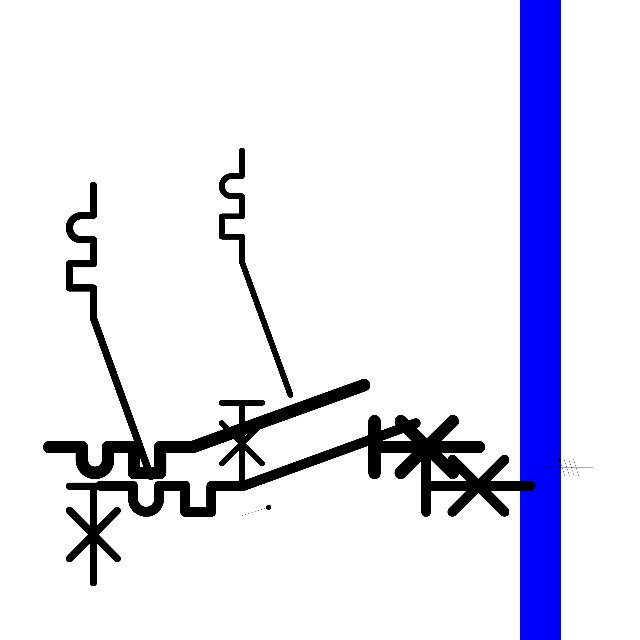interruptor_termomagnetico: (89, 412, 542, 523), (38, 374, 490, 484), (59, 175, 161, 593), (213, 142, 299, 493)
